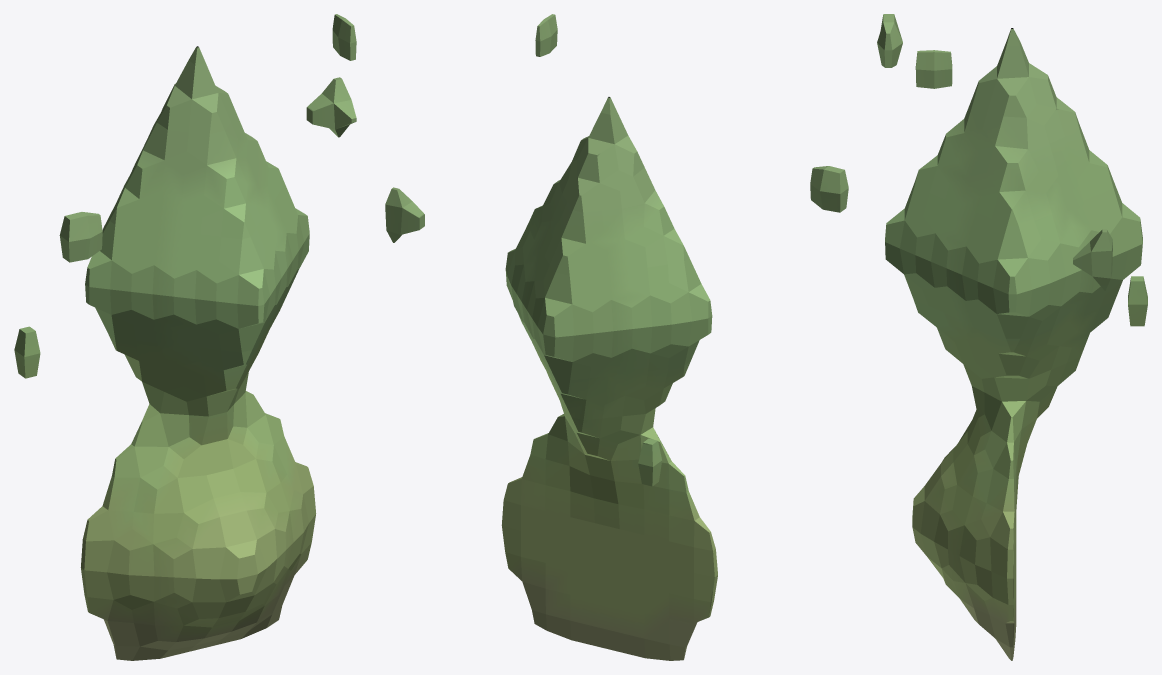
The model's file is windSpiritSummon.glb.
3 views of the same model, side by side, from view 1: azimuth 30°, elevation 25°; view 2: azimuth 150°, elevation 25°; view 3: azimuth 270°, elevation 25° (orthographic). The views are drawn at different scales.
Visible parts, largest first — view 1: geometry_0; view 2: geometry_0; view 3: geometry_0.
Part boxes in pixels (<box>): geometry_0: <box>14,14,356,660</box>; geometry_0: <box>385,14,848,660</box>; geometry_0: <box>877,14,1147,660</box>.
Bounding box in the file's own units: 0.6023 × 0.9325 × 0.3635.
Materials: 1 (1 with a texture image).
